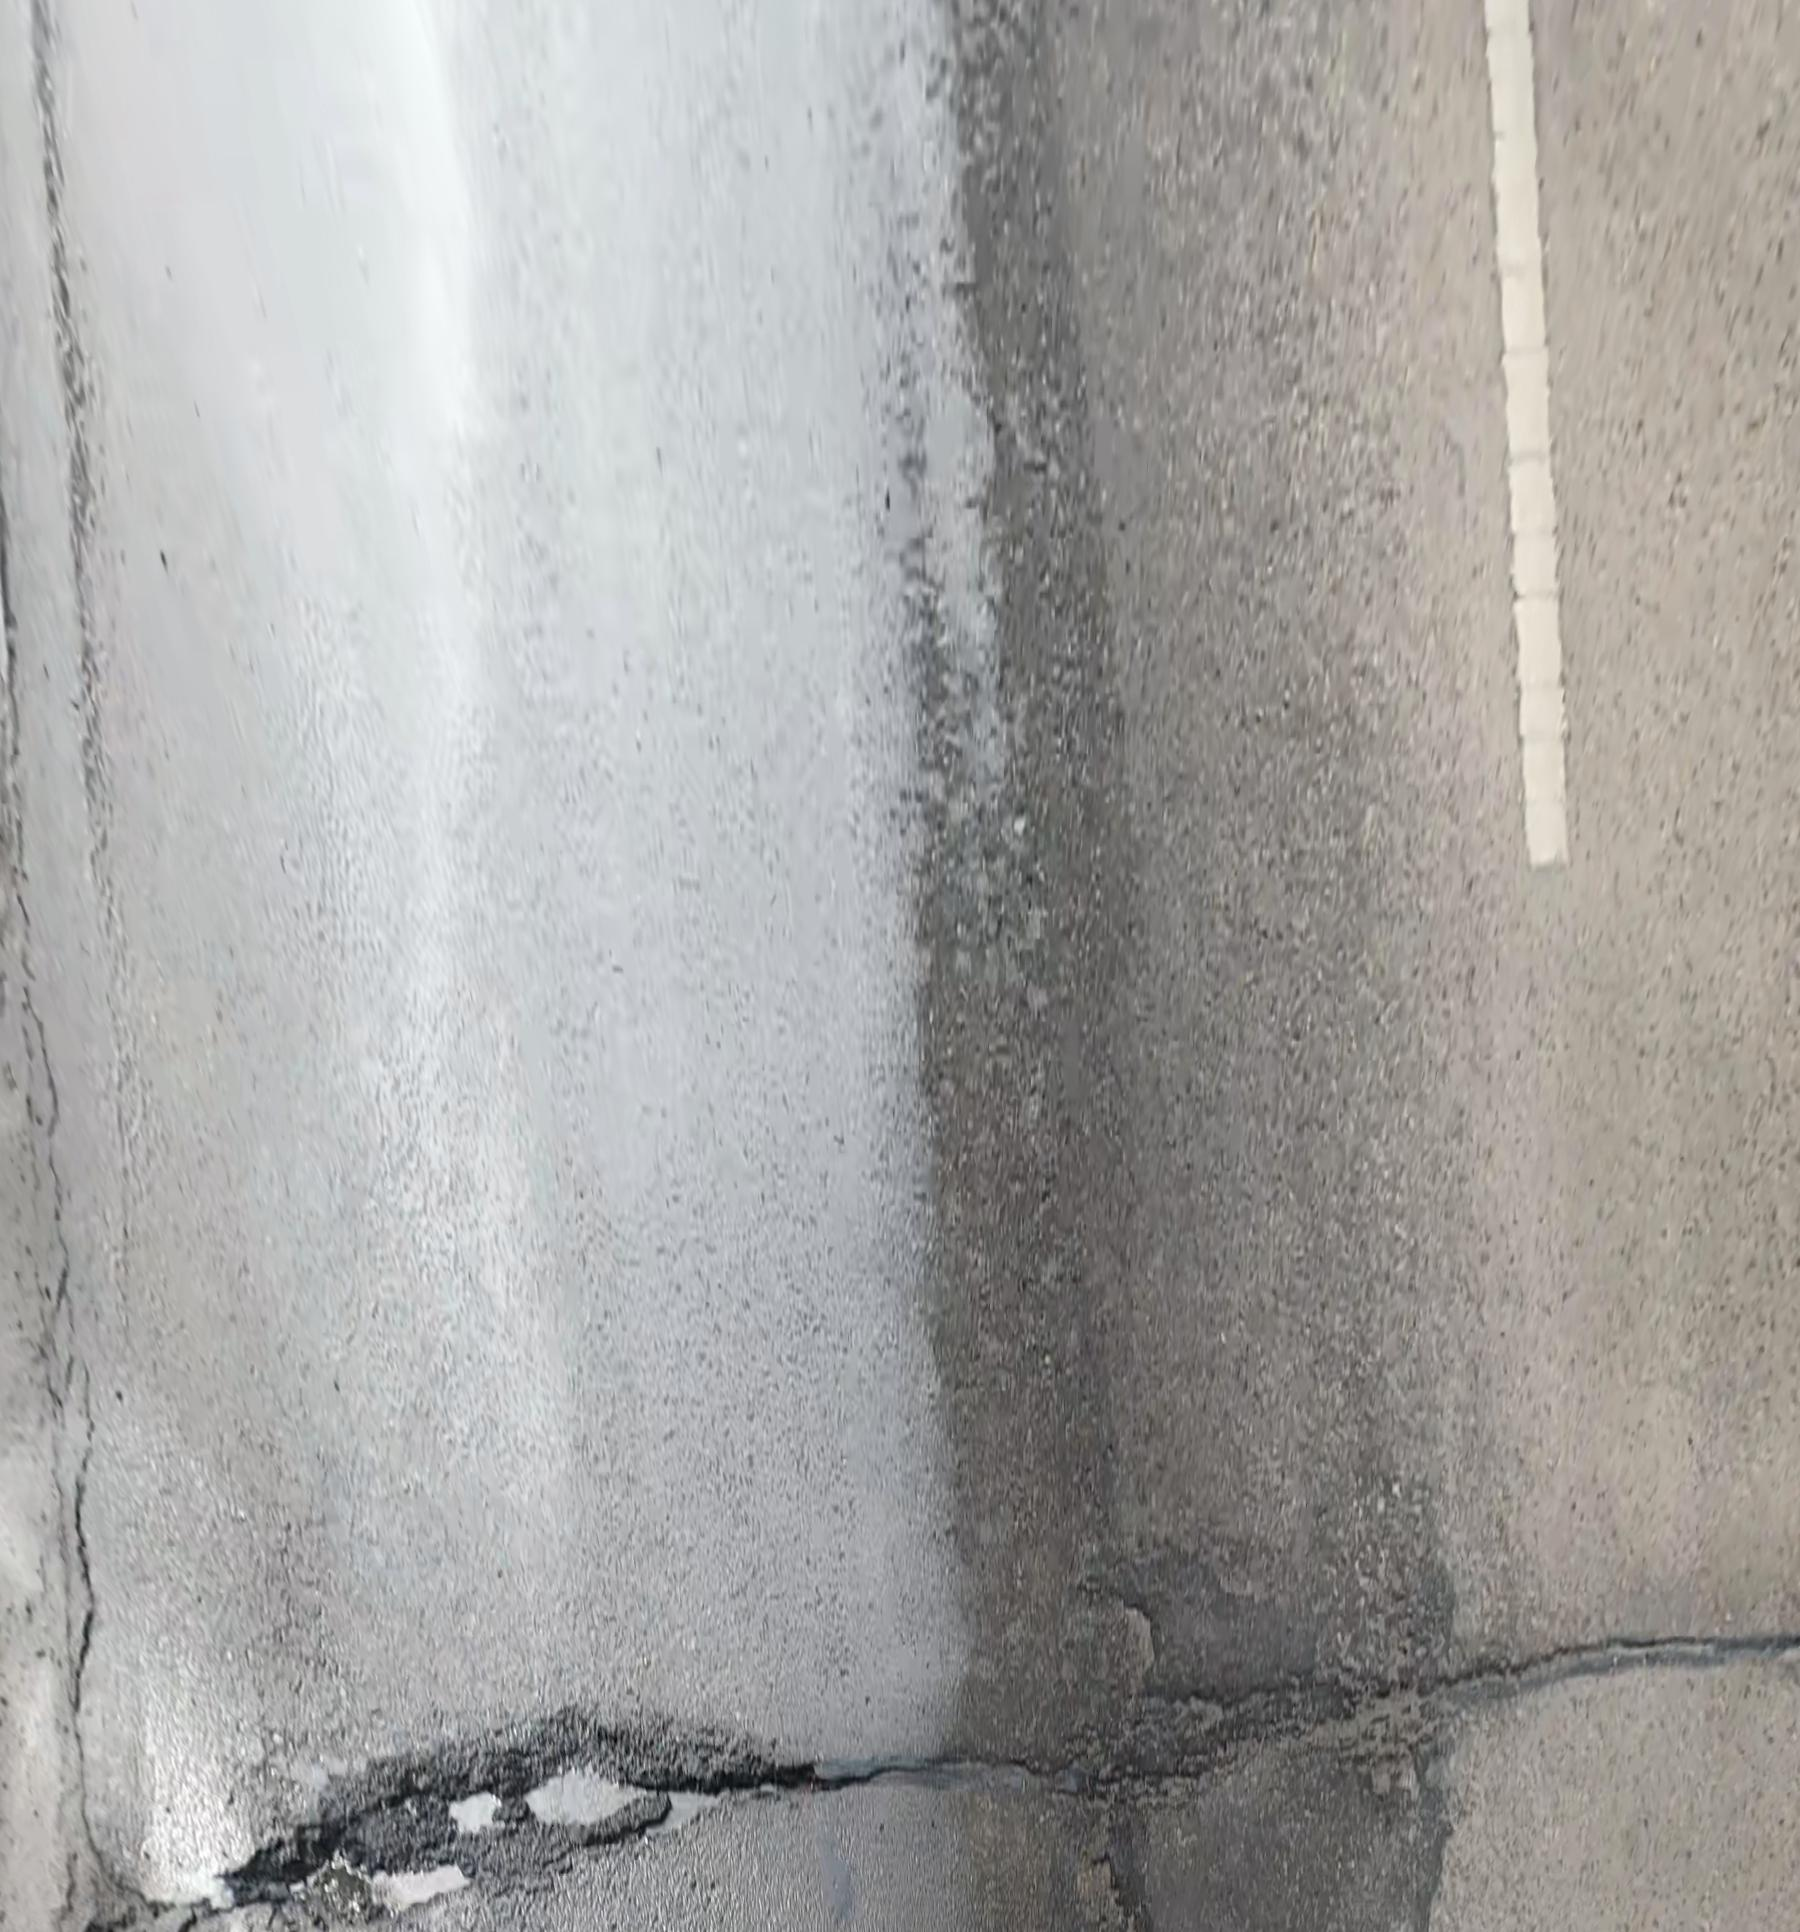pothole: (196, 1721, 773, 1930)
pothole_patch_poor: (1061, 1546, 1523, 1932)
